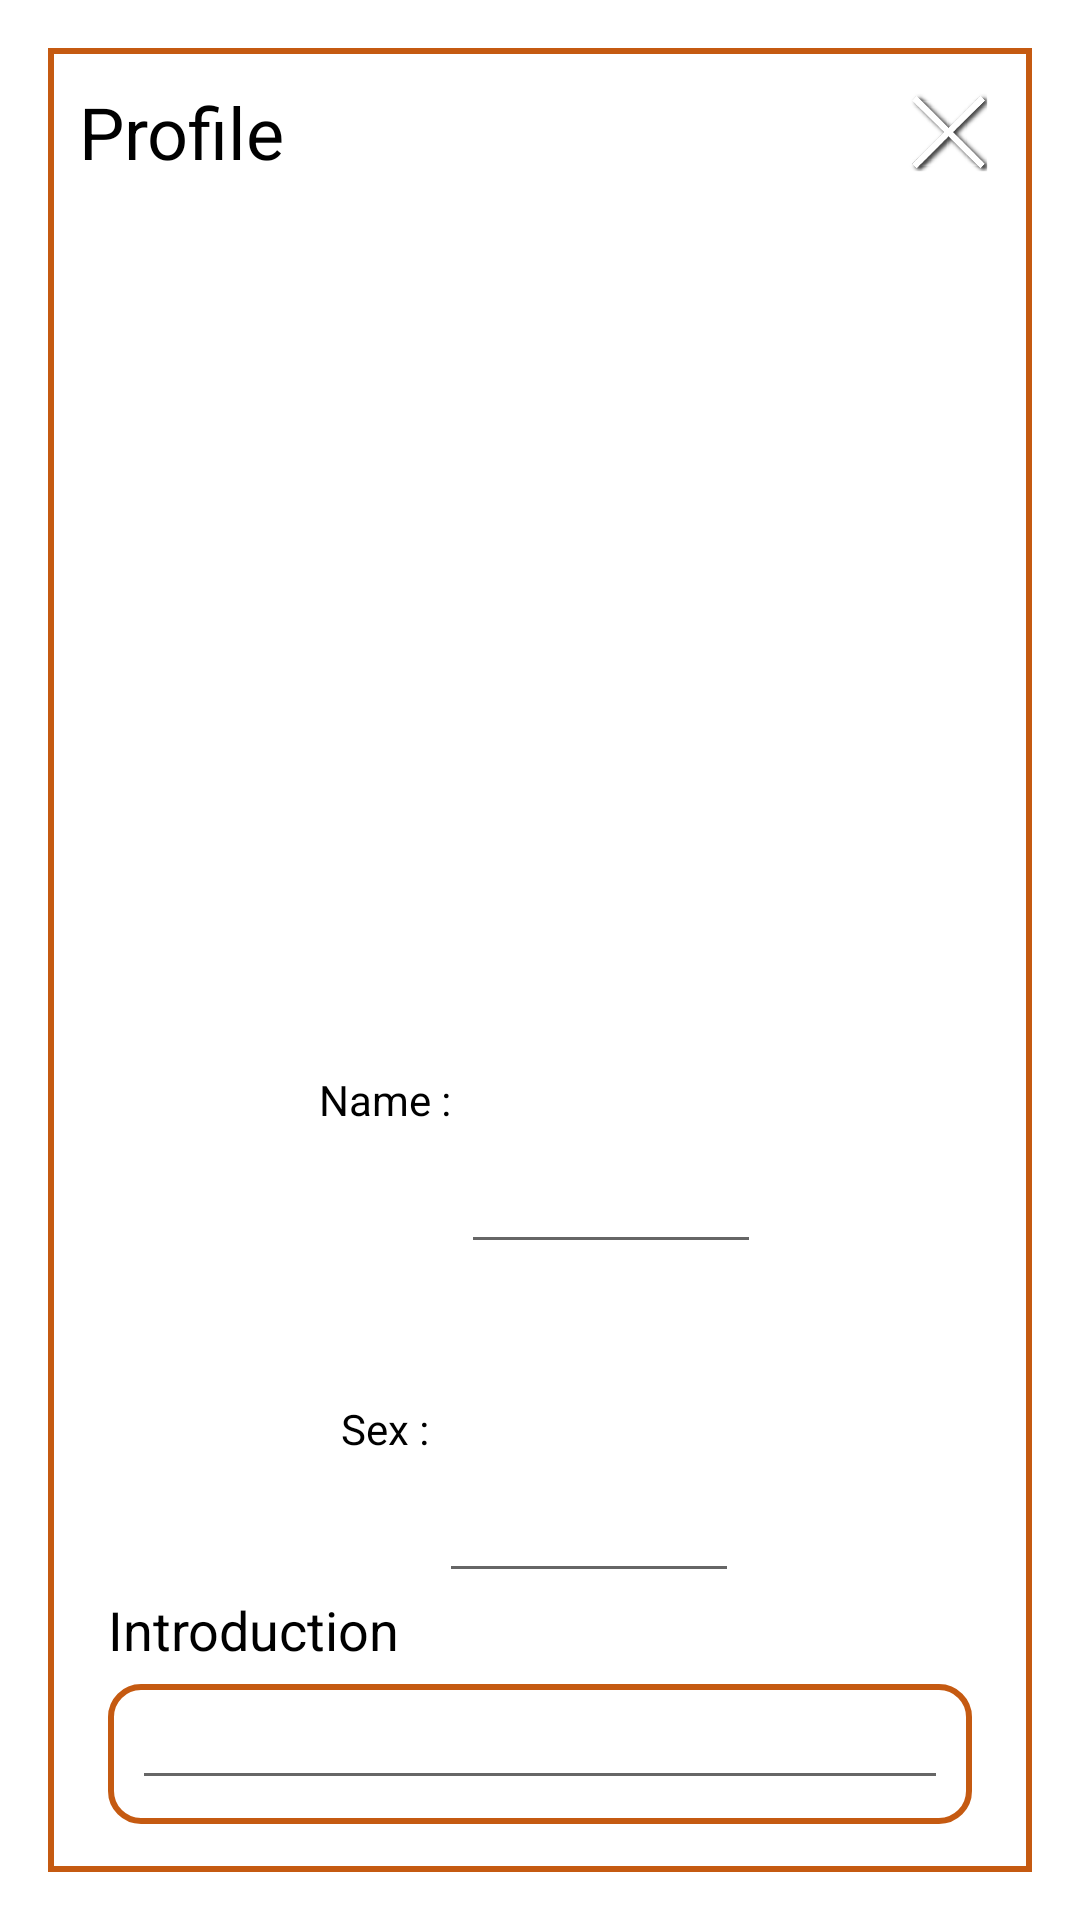

Icon click points for this 1080*1920 phone screenshot, format point (x, y):
goback: point (948, 132)
